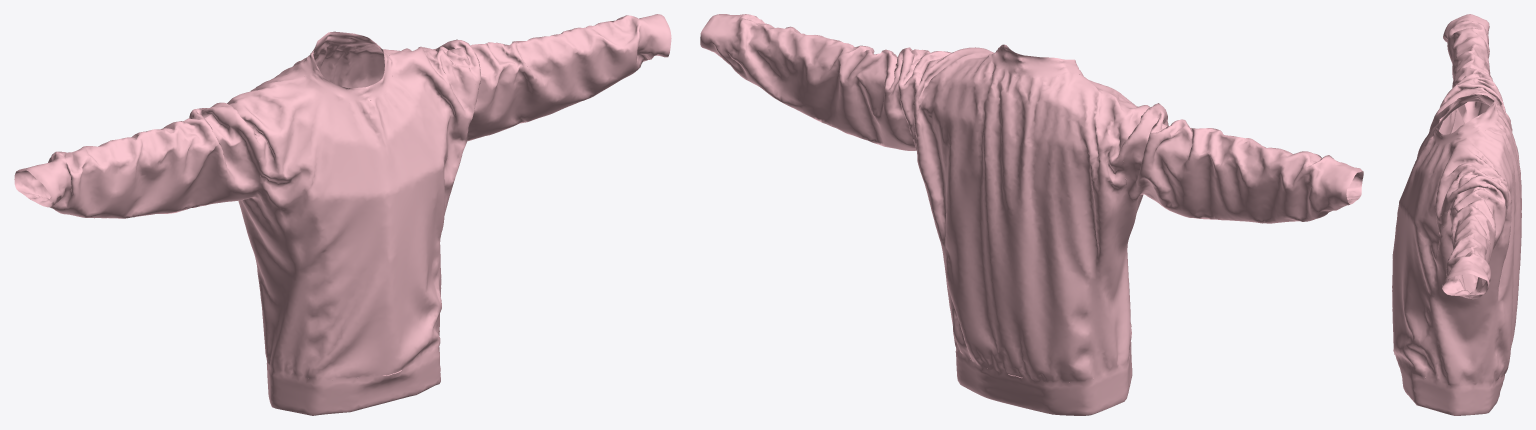
Rendered from sweat T-pose.fbx.
The picture shows the model from 3 angles, left to right: view 1: azimuth 30°, elevation 25°; view 2: azimuth 150°, elevation 25°; view 3: azimuth 270°, elevation 25°; orthographic projection. The views are drawn at different scales.
Parts seen in each view (by area): view 1: 123; view 2: 123; view 3: 123.
Part boxes in pixels (x1=…): 123: x1=14, y1=14, x2=671, y2=415; 123: x1=700, y1=14, x2=1363, y2=415; 123: x1=1392, y1=14, x2=1521, y2=415.
Size of the model in its own units: 1478 by 764 by 311.
